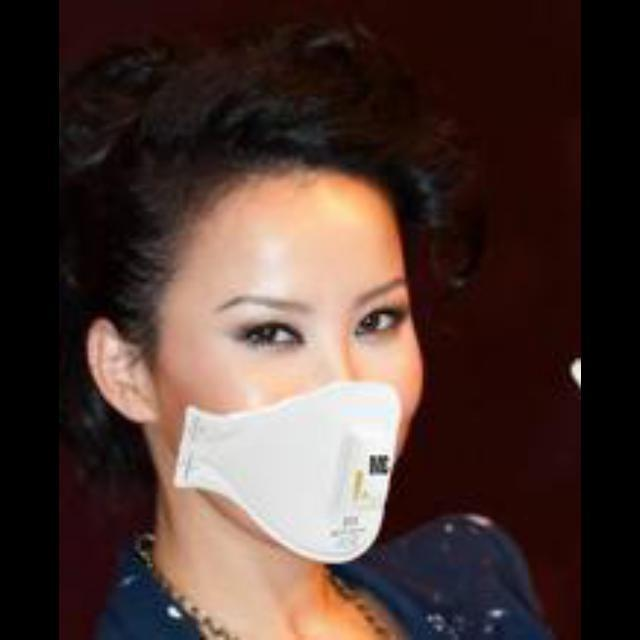suspicion: (137, 108, 427, 540)
